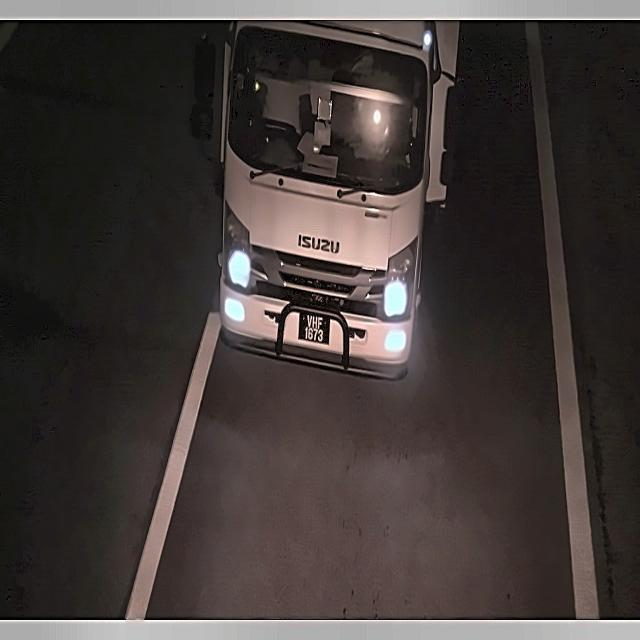car: (294, 304, 336, 352)
